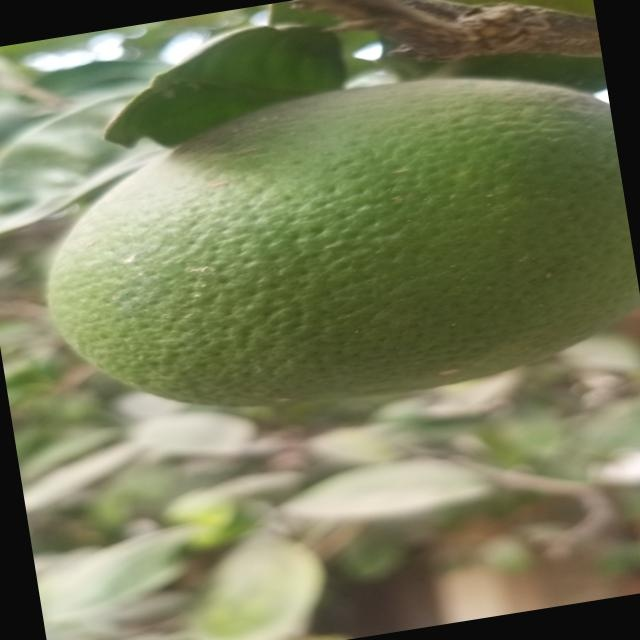agrume: (27, 51, 640, 444)
